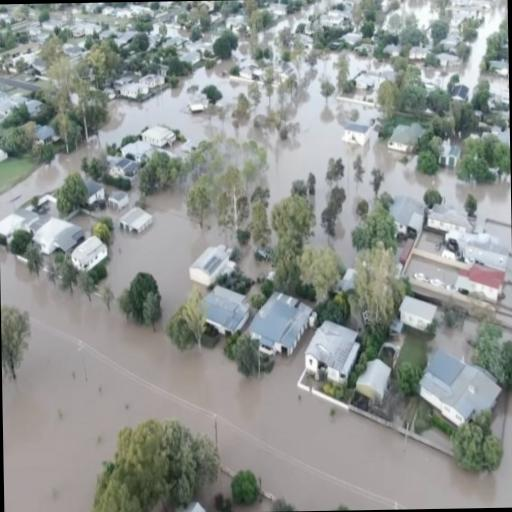flood: (0, 185, 512, 512), (0, 52, 511, 267), (215, 0, 341, 71), (423, 0, 509, 100), (432, 317, 481, 364), (237, 244, 272, 280), (199, 475, 231, 509), (402, 0, 439, 29), (348, 52, 390, 75), (306, 226, 328, 246), (235, 501, 271, 512), (167, 26, 190, 40), (200, 31, 217, 42), (503, 328, 512, 341)
house: (418, 344, 500, 431), (248, 288, 313, 358), (304, 320, 362, 388), (198, 284, 250, 340), (398, 292, 442, 334), (464, 262, 508, 304), (190, 244, 235, 284), (34, 218, 80, 256), (390, 192, 426, 238), (67, 234, 110, 271), (116, 206, 154, 240), (362, 358, 392, 400), (386, 123, 421, 158), (341, 119, 375, 149), (188, 90, 218, 116), (142, 125, 174, 147), (86, 180, 106, 206), (121, 82, 141, 100), (140, 75, 165, 88), (452, 84, 470, 100), (184, 50, 202, 64)
